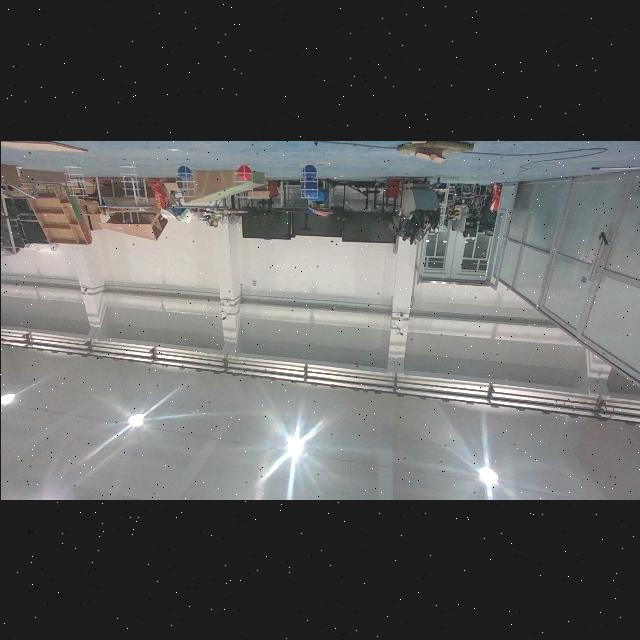B: (300, 181, 318, 197), (301, 165, 317, 179), (174, 166, 192, 178)
R: (236, 166, 252, 178)
S: (115, 161, 142, 199), (171, 162, 197, 200), (296, 162, 322, 200), (62, 162, 88, 198), (232, 161, 254, 197)
